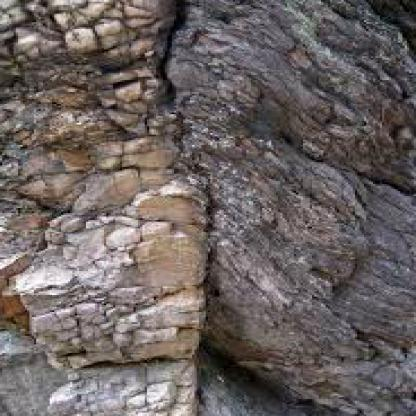Metamorphic_Quartize: (167, 0, 416, 415)
